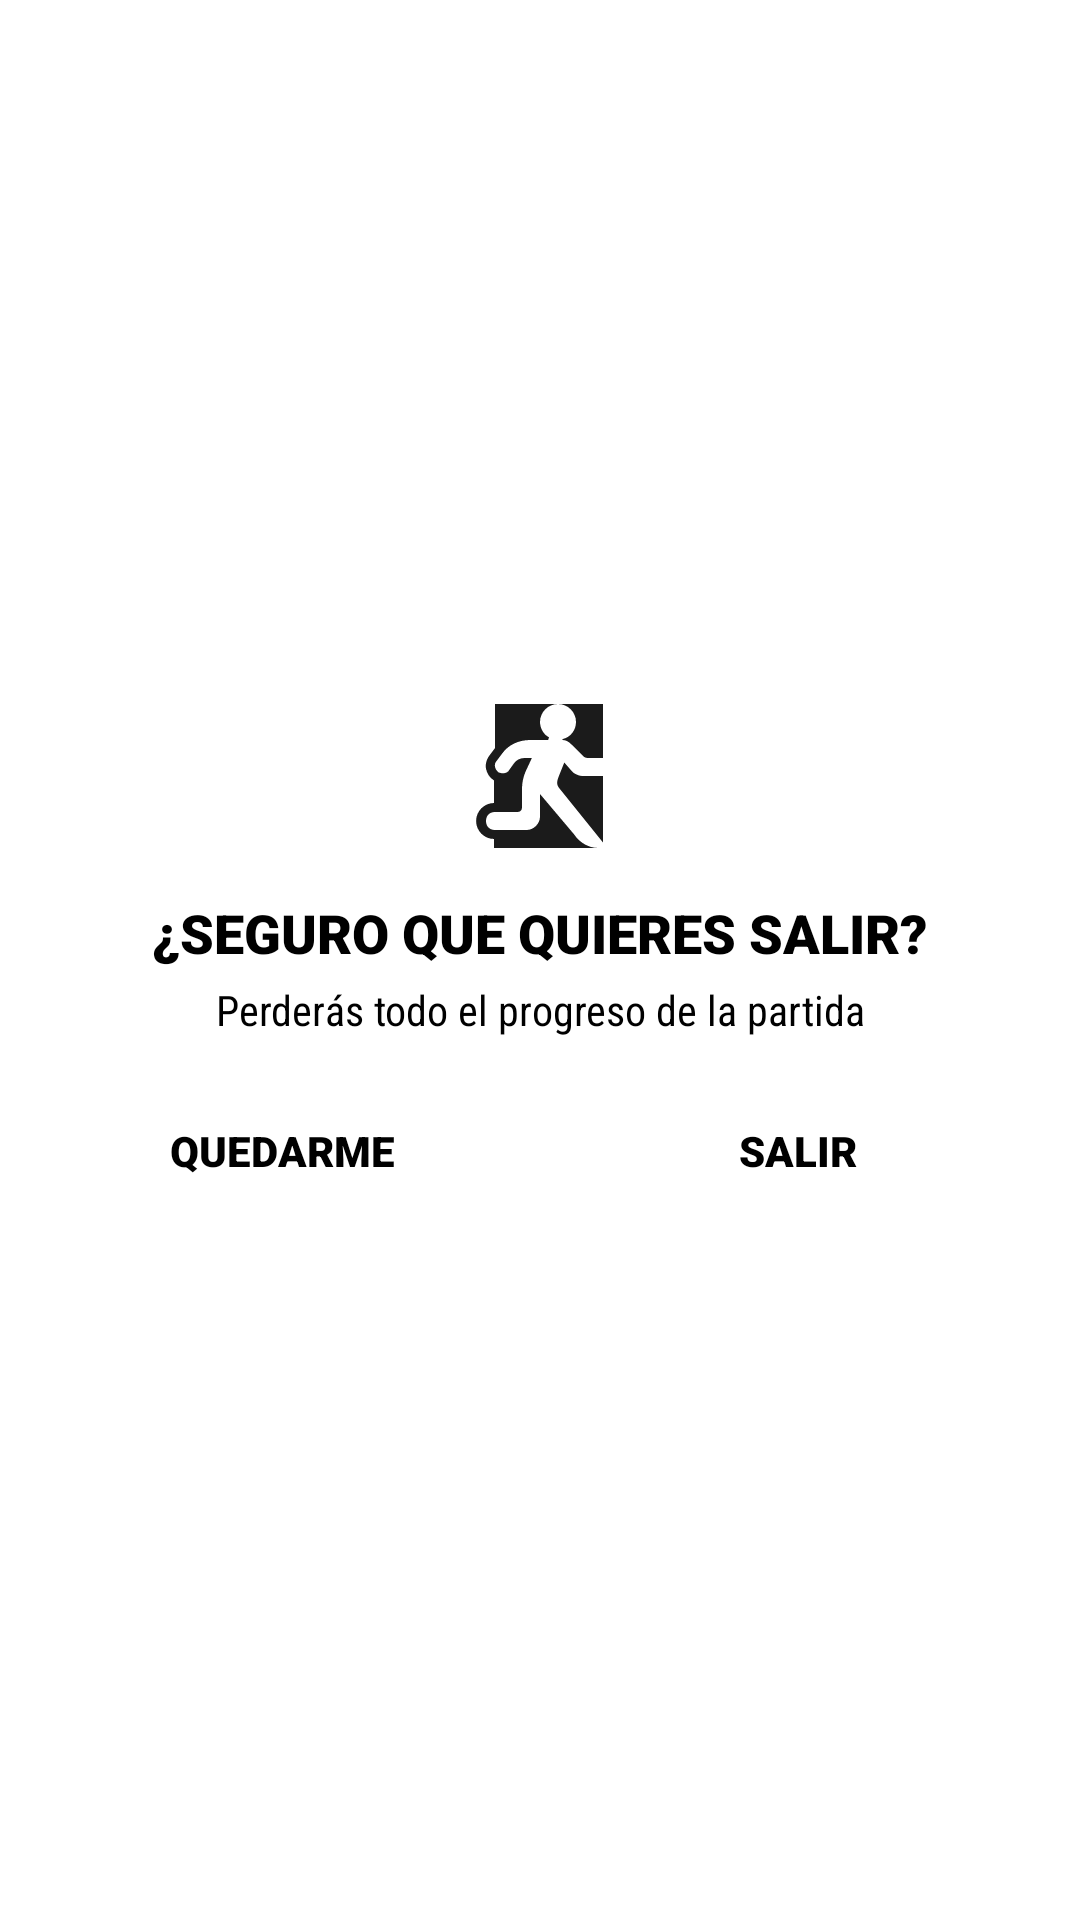

Named icons in this screenshot (1080×1920) and their bounding boxes, (x1, y1, x2, y2):
exit: (476, 704, 603, 848)
